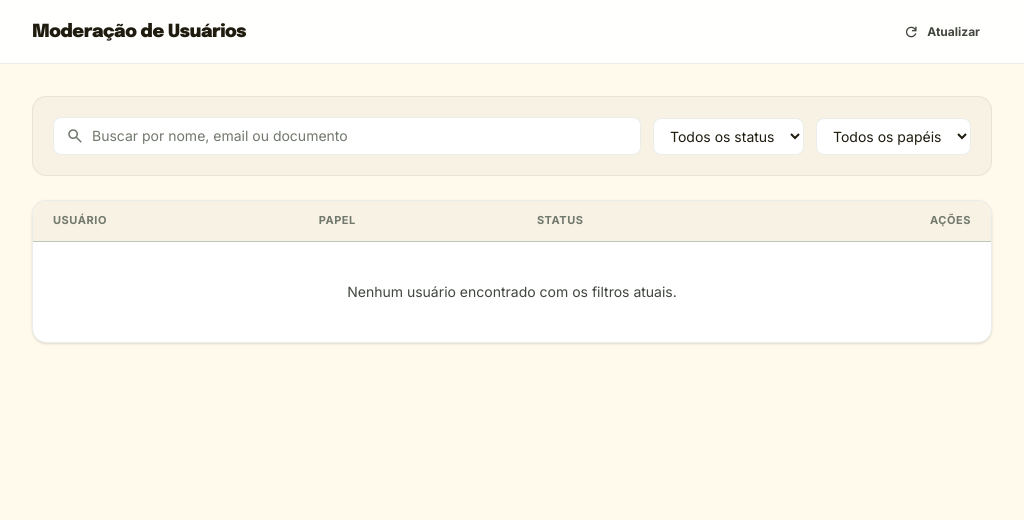
it: warns when users cannot be loaded and refreshes on demand
The image size is (1024, 520).
Click the button "Atualizar" at (942, 32), box 891,18 -> 992,46
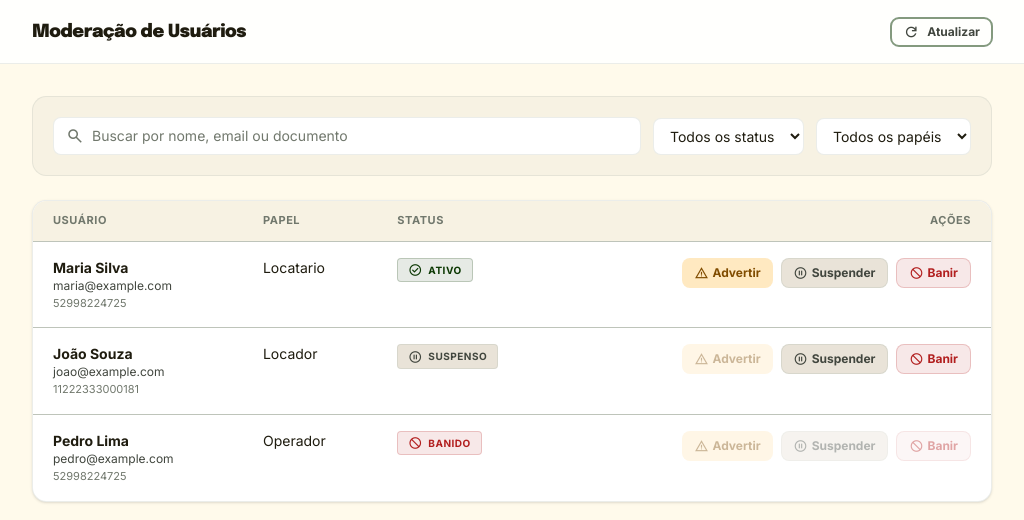
Result: the text "Maria Silva" is shown at 53,259 -> 128,276
